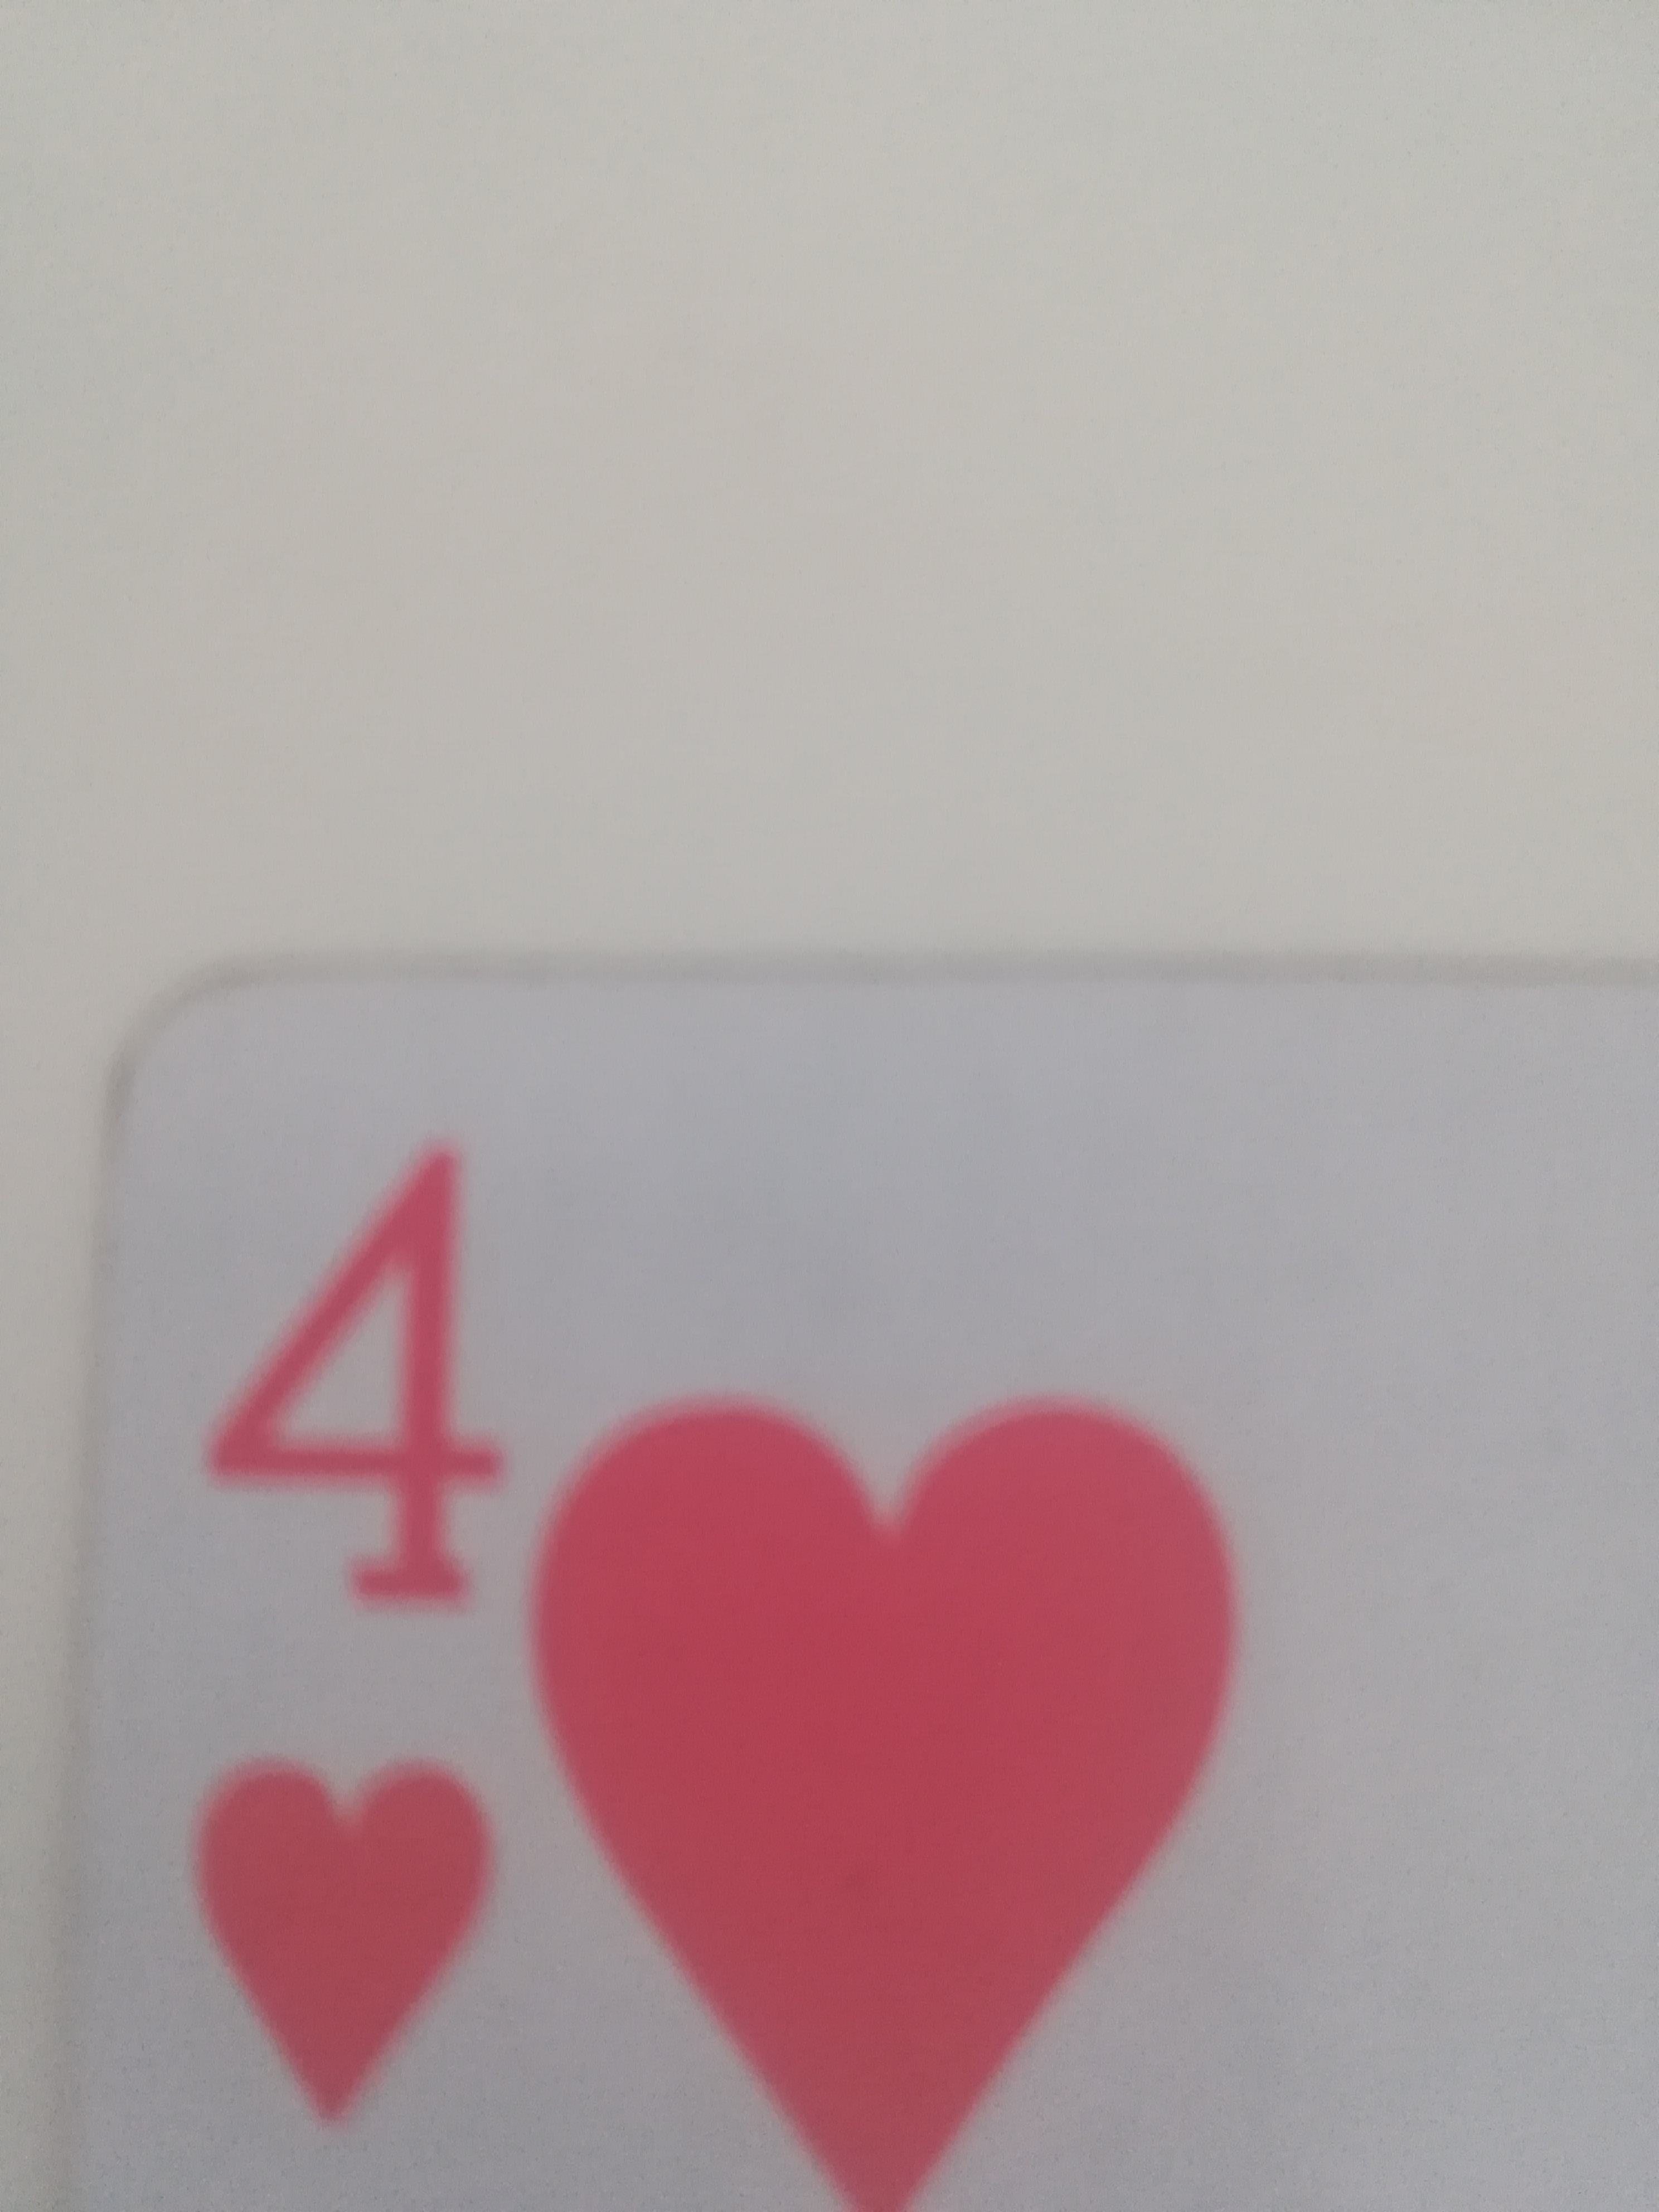4H: (77, 946, 1656, 2212)
